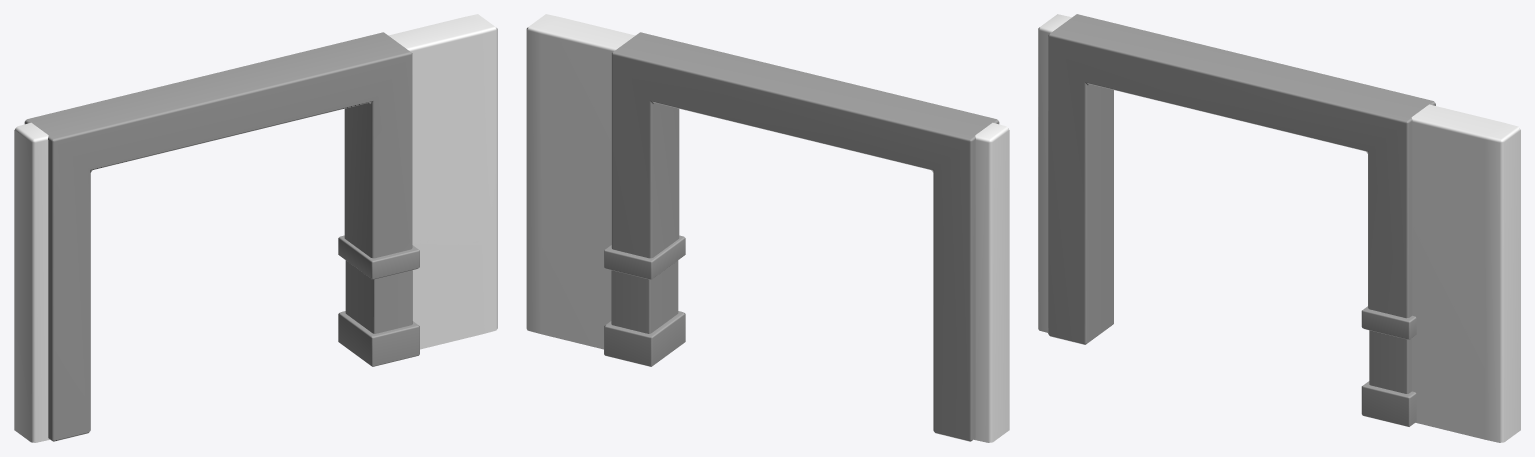
Rendered from mod_sc_tdm_roma_wall_005.fbx.
The picture shows the model from 3 angles, left to right: view 1: azimuth 30°, elevation 25°; view 2: azimuth 150°, elevation 25°; view 3: azimuth 330°, elevation 25°; orthographic projection.
Visible parts, largest first — view 1: mod_sc_roma_001_ar09_wall_012; view 2: mod_sc_roma_001_ar09_wall_012; view 3: mod_sc_roma_001_ar09_wall_012.
Boxes of the visible parts, x1,y1,x2,y2 form: mod_sc_roma_001_ar09_wall_012: [14, 14, 497, 442]; mod_sc_roma_001_ar09_wall_012: [526, 14, 1009, 442]; mod_sc_roma_001_ar09_wall_012: [1038, 14, 1520, 442].
Size of what is drawn, in the model's own units: 648 by 402 by 83.15.
